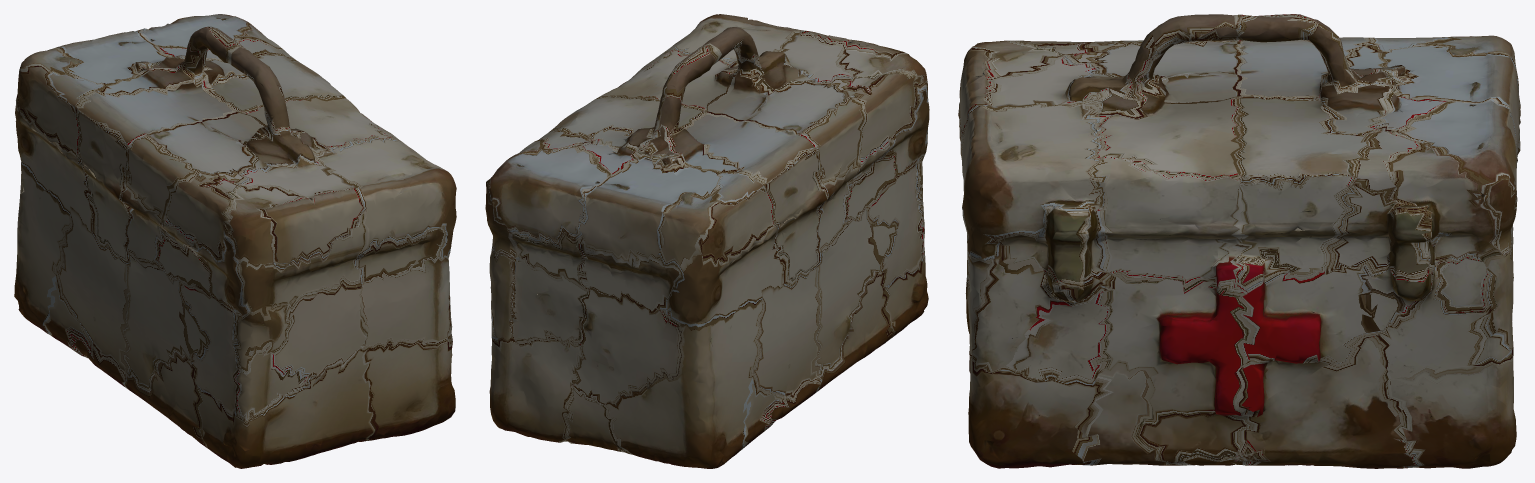
File: علبة_إسعاف.glb
3 renders of one model, left to right at view 1: azimuth 30°, elevation 25°; view 2: azimuth 150°, elevation 25°; view 3: azimuth 270°, elevation 25°, orthographic. The views are drawn at different scales.
Visible parts, largest first — view 1: tripo_node_4eea49f9-1437-456c-993a-ed11bb09f920; view 2: tripo_node_4eea49f9-1437-456c-993a-ed11bb09f920; view 3: tripo_node_4eea49f9-1437-456c-993a-ed11bb09f920.
Part boxes in pixels (bbox=[...]): tripo_node_4eea49f9-1437-456c-993a-ed11bb09f920: bbox=[14, 14, 456, 468]; tripo_node_4eea49f9-1437-456c-993a-ed11bb09f920: bbox=[485, 14, 929, 468]; tripo_node_4eea49f9-1437-456c-993a-ed11bb09f920: bbox=[958, 14, 1520, 468].
Size of the model in its own units: 0.6237 by 0.7793 by 0.9996.
1 material, 1 textured.
